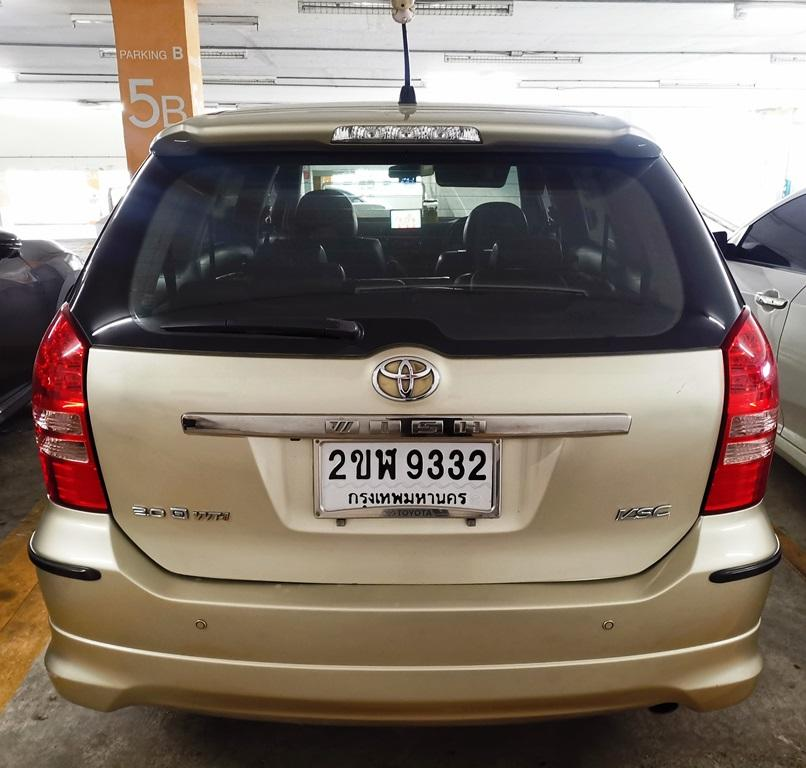license-plate: (297, 423, 510, 531)
